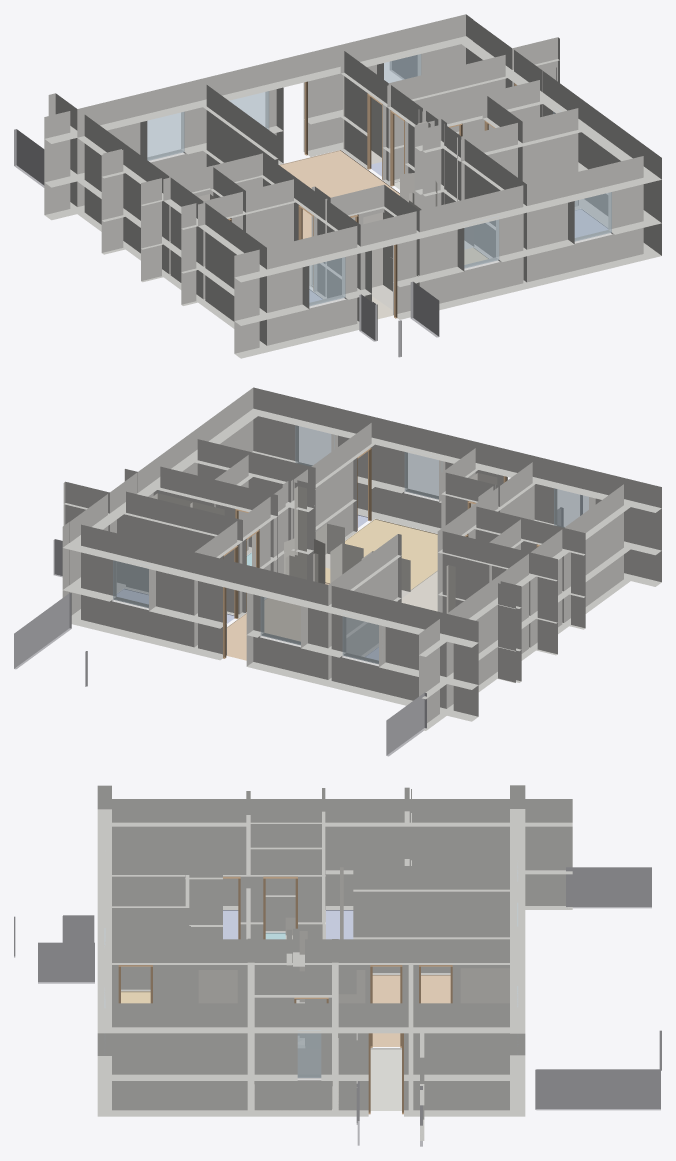
3 views of the same model, one above another, from view 1: azimuth 30°, elevation 25°; view 2: azimuth 150°, elevation 25°; view 3: azimuth 270°, elevation 25° (orthographic). The views are drawn at different scales.
Parts seen in each view (by area): view 1: walls, railings, floor_1_Living_Room, window_0, window_3, window_6, window_1, furniture_7_closet, window_4, furniture_0_closet, window_2, floor_10_Bed_Room; view 2: walls, railings, floor_3_Kitchen, floor_1_Living_Room, window_4, window_3, window_2, window_1, window_0, furniture_22_chimney, window_6, floor_2_Entry (+3 smaller); view 3: walls, railings, floor_1_Living_Room, floor_5_Undefined, furniture_0_closet, furniture_6_closet, window_7, floor_0_Bed_Room, furniture_20_sauna_bench.
Part boxes in pixels (x1,y1,x2,y2): walls: [44, 14, 661, 358]; railings: [14, 55, 439, 357]; floor_1_Living_Room: [279, 150, 399, 238]; window_0: [574, 192, 611, 241]; window_3: [143, 112, 184, 160]; window_6: [309, 257, 345, 305]; window_1: [462, 216, 499, 268]; furniture_7_closet: [363, 212, 418, 314]; window_4: [229, 91, 269, 129]; furniture_0_closet: [343, 76, 381, 164]; window_2: [384, 51, 421, 82]; floor_10_Bed_Room: [575, 209, 607, 237]; walls: [62, 387, 661, 730]; railings: [14, 495, 582, 756]; floor_3_Kitchen: [325, 519, 437, 589]; floor_1_Living_Room: [227, 582, 329, 660]; window_4: [260, 596, 300, 644]; window_3: [342, 613, 378, 663]; window_2: [113, 560, 151, 607]; window_1: [404, 450, 441, 499]; window_0: [295, 425, 334, 466]; furniture_22_chimney: [294, 486, 306, 579]; window_6: [554, 488, 588, 527]; floor_2_Entry: [401, 570, 437, 611]; walls: [97, 785, 572, 1140]; railings: [14, 867, 661, 1146]; floor_1_Living_Room: [372, 975, 450, 1046]; floor_5_Undefined: [370, 1048, 401, 1110]; furniture_0_closet: [460, 968, 509, 1003]; furniture_6_closet: [198, 970, 237, 1003]; window_7: [297, 1030, 321, 1077]; floor_0_Bed_Room: [326, 910, 353, 939]; furniture_20_sauna_bench: [254, 1048, 332, 1110].
Bounding box in the file's own units: 13.77 × 2.72 × 14.83.
